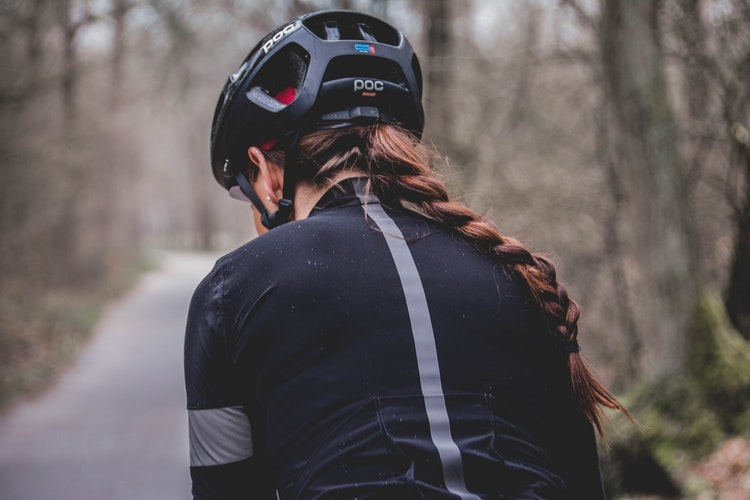helmet: (196, 18, 430, 134)
